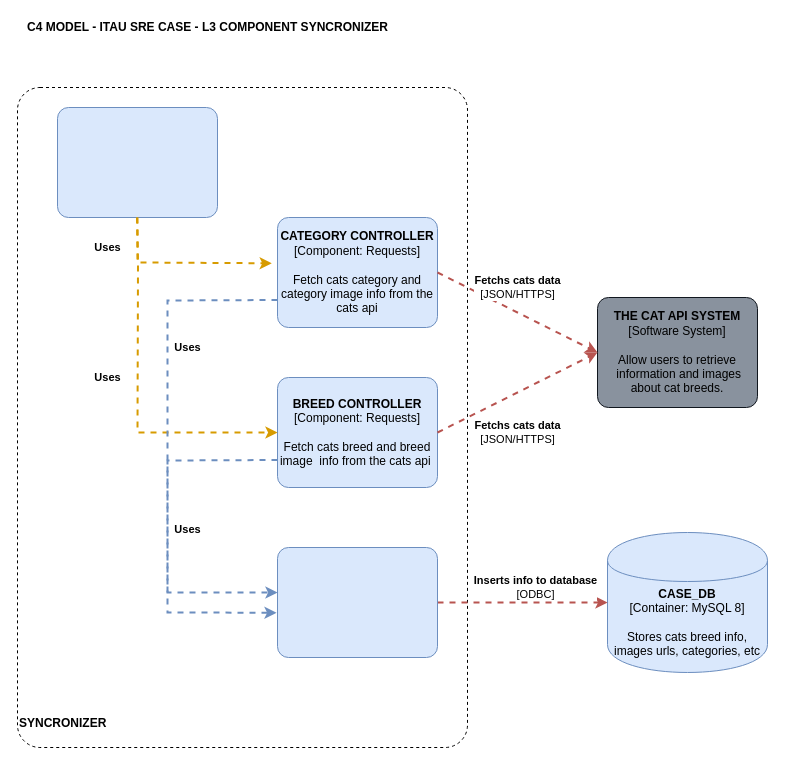
This 785x773 diagram has some shape labels left out. Here are the shapes that lost their labels. From the top down, the centre of each, then its label:
At (x=137, y=162): "SCHEDULER [Component: APScheduler ] Executes Jobs on a scheduled basis".
At (x=357, y=602): "MODEL [Component: Peewee] Interacts with the database to insert information".
